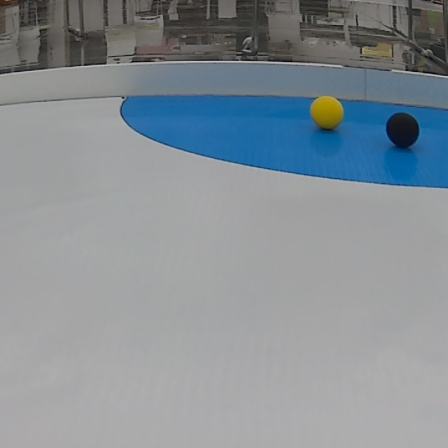black: (387, 111, 420, 150)
blue_base: (119, 95, 448, 188)
yellow: (311, 93, 344, 130)
